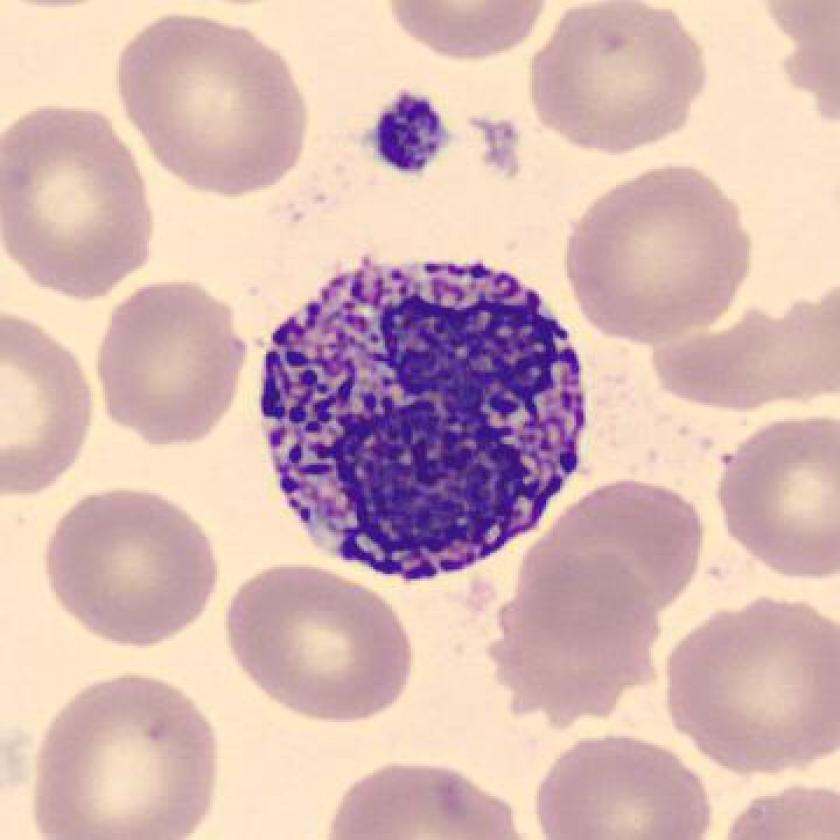basophil: (249, 244, 592, 584)
